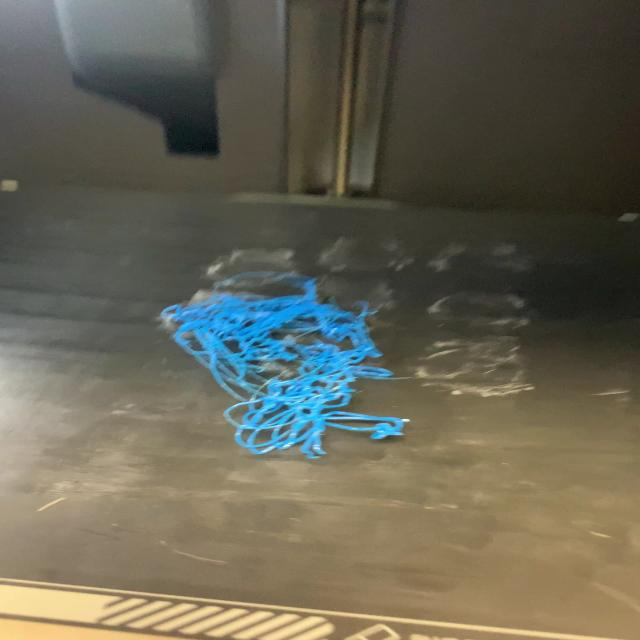spaghetti: (157, 270, 414, 461)
